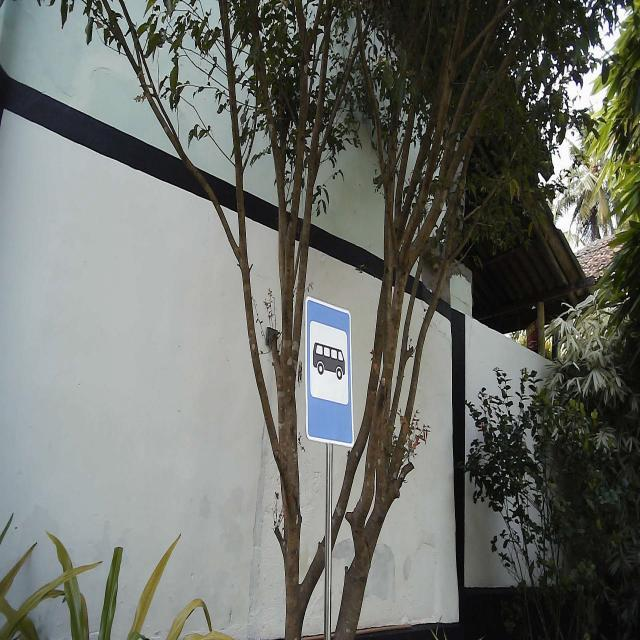bus_stop: (303, 294, 356, 450)
